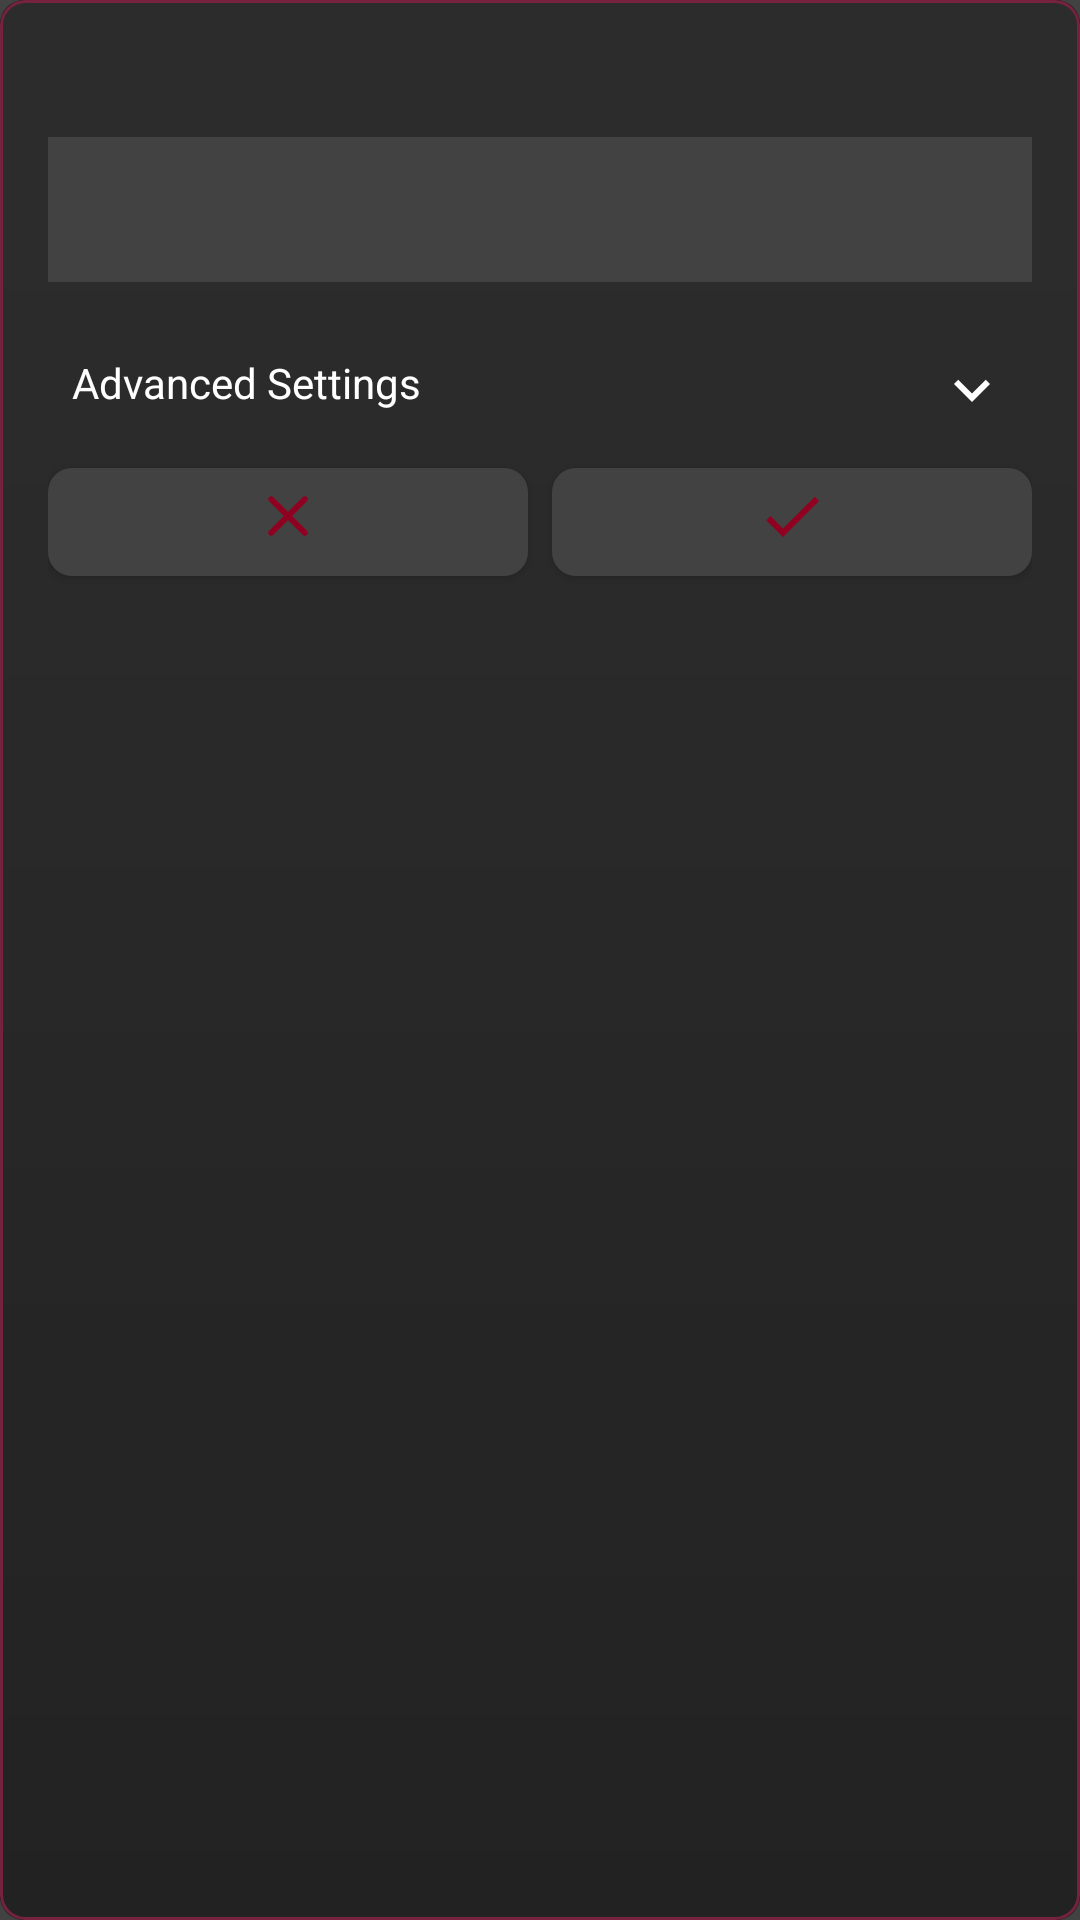

Screen size 1080x1920. Icon name, then its box in pixels as (x1, y1, x2, y2):
expand more: (954, 380, 990, 402)
